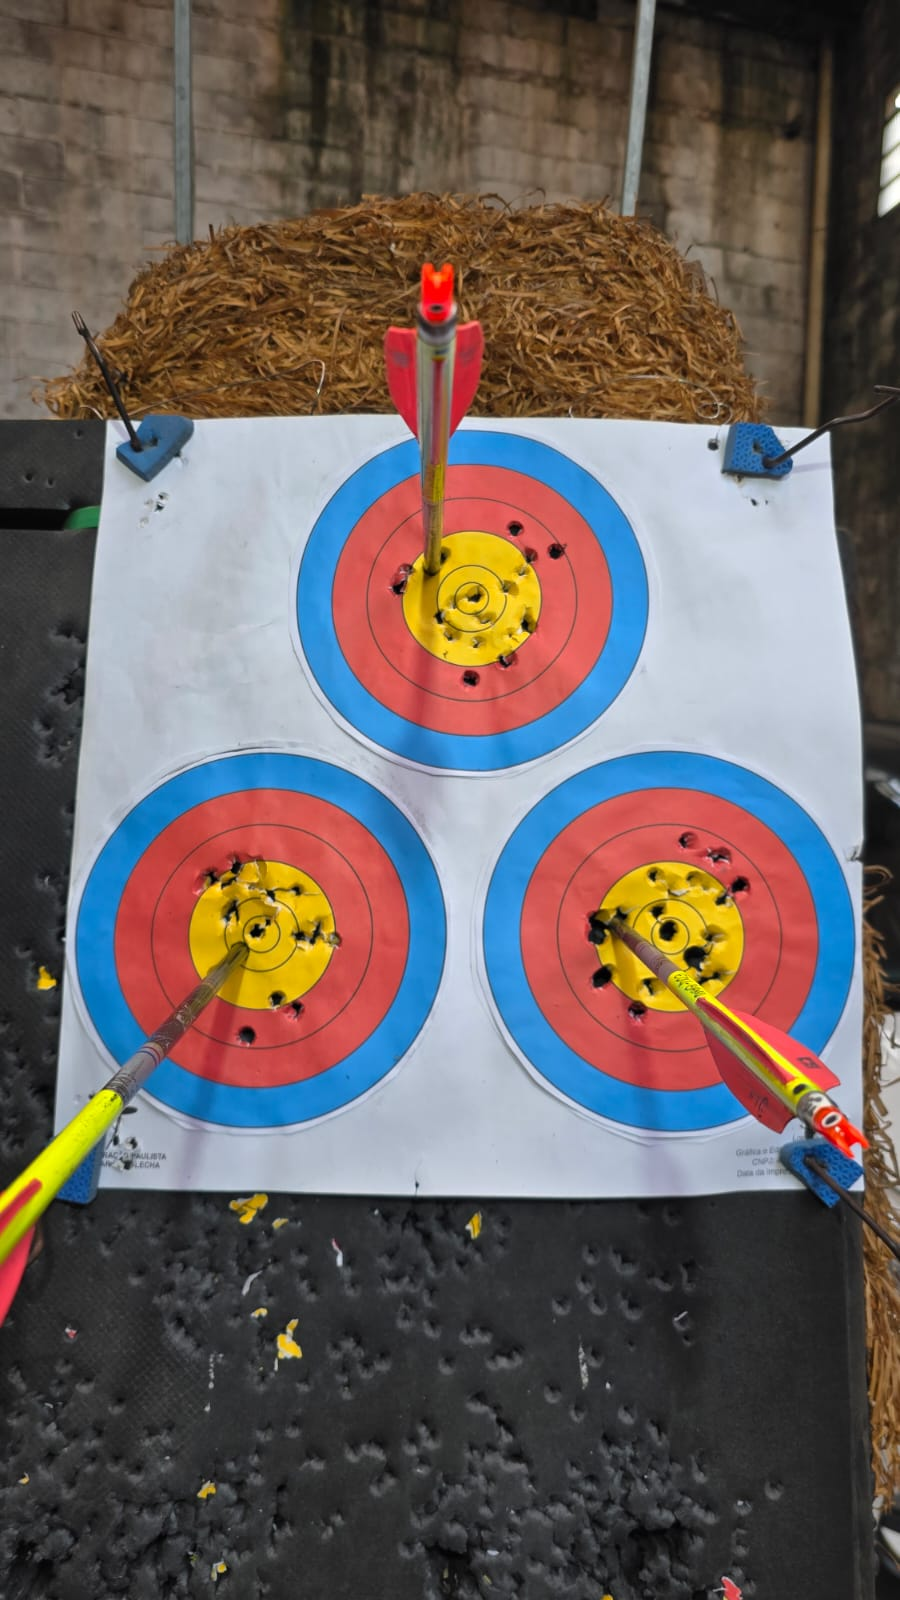9: (486, 744, 860, 1153), (325, 437, 671, 776)
9 linha 10: (100, 753, 464, 1145)
